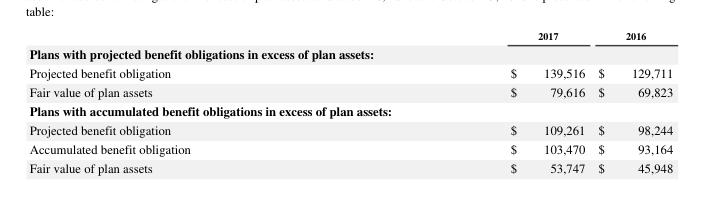table: (28, 28, 672, 175)
table column: (28, 28, 349, 175), (349, 28, 591, 175), (591, 28, 672, 175)
table column header: (28, 28, 672, 43)
table projected row header: (28, 100, 672, 120), (28, 43, 672, 62)
table row: (28, 100, 672, 120), (28, 43, 672, 62), (28, 62, 672, 81), (28, 81, 672, 100), (28, 138, 672, 157), (28, 120, 672, 138), (28, 157, 672, 175), (28, 28, 672, 43)
